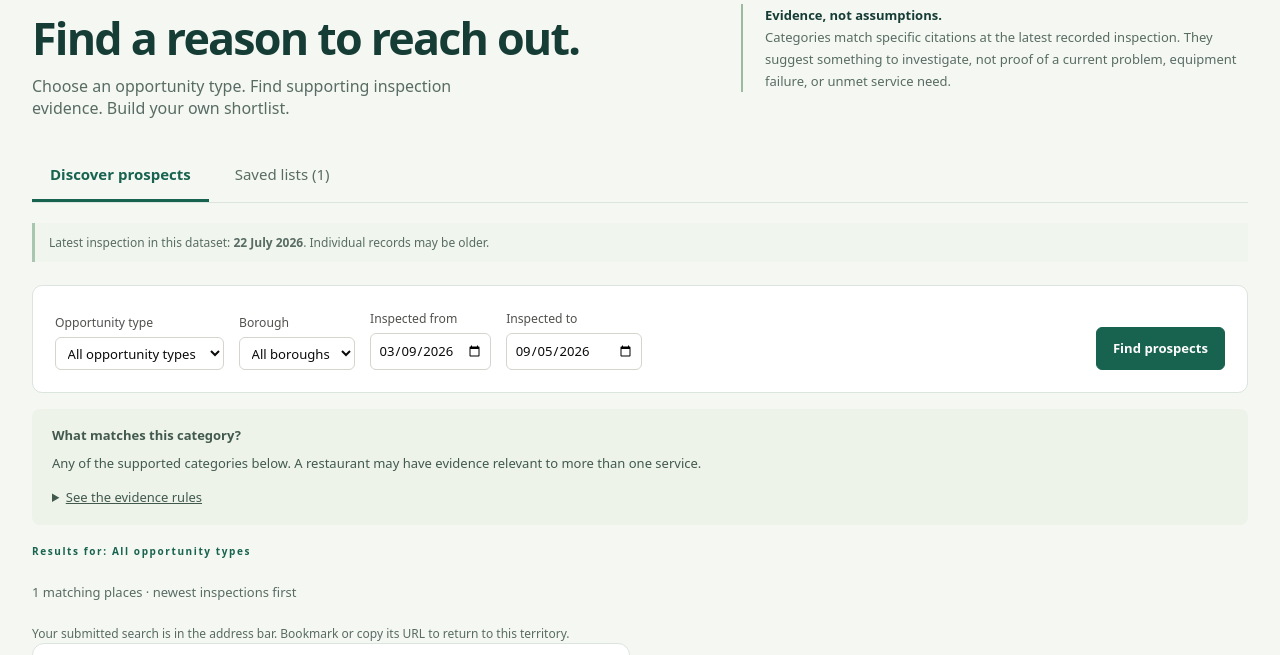
Test: does not overwrite another tab’s newer work on an edit
The image size is (1280, 655).
Step 1. Click the button "Saved lists (1)" → {"x": 282, "y": 176}, box [217, 150, 348, 202]
(page scrolled)
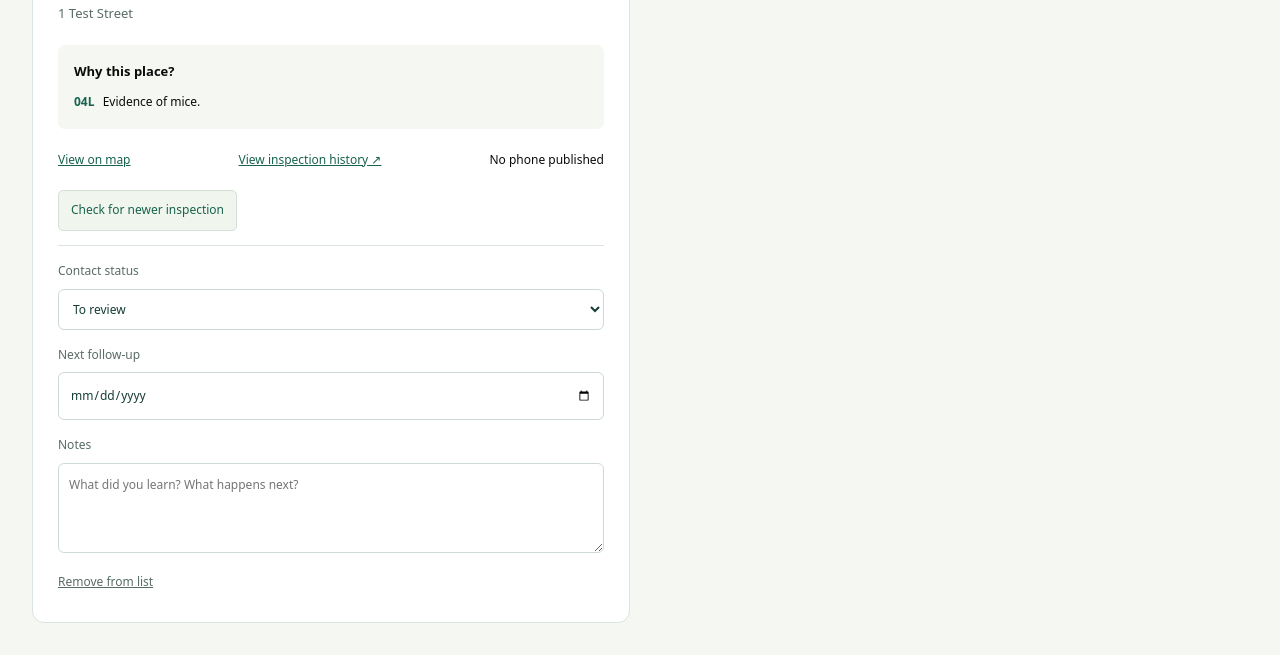
Step 2. Select "Contacted" in the dropdown labelled "Contact status" → {"x": 331, "y": 309}, box [58, 289, 604, 330]
(page scrolled)
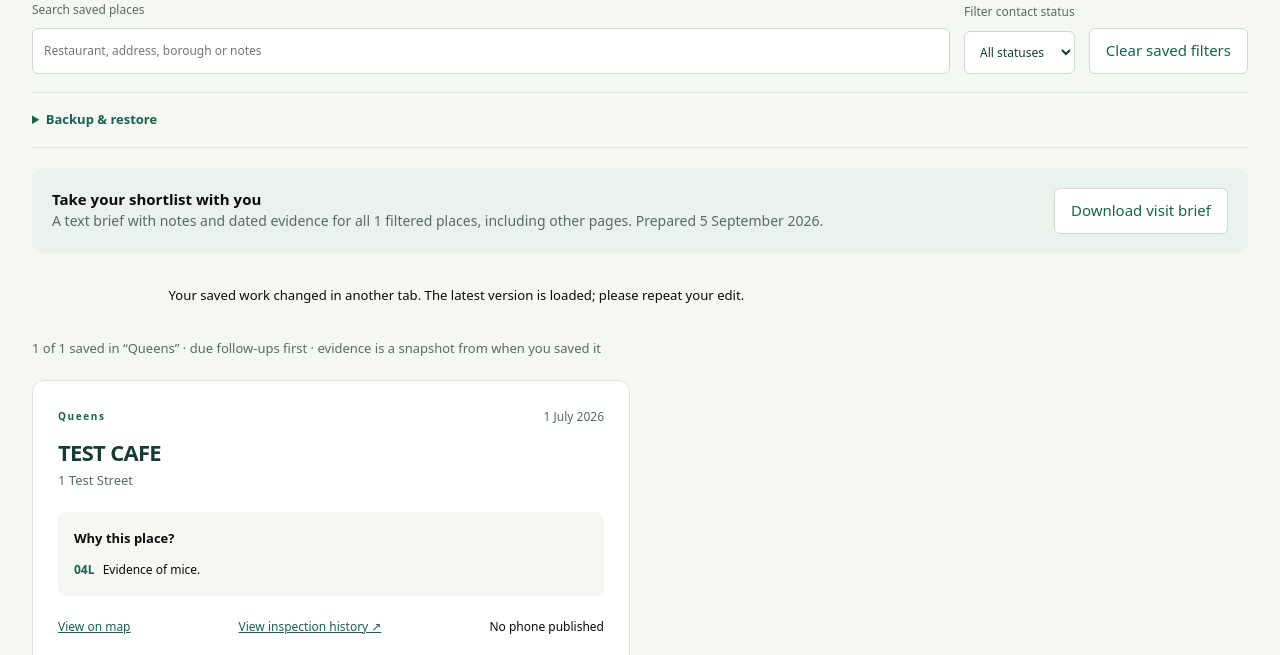
Now the message shows "changed in another tab", box [169, 286, 744, 304]
